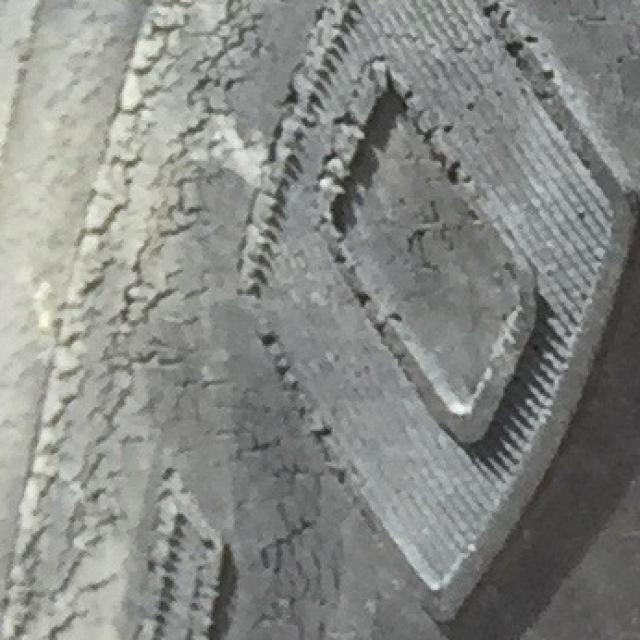Cracks: (5, 0, 465, 640), (465, 1, 640, 224)
